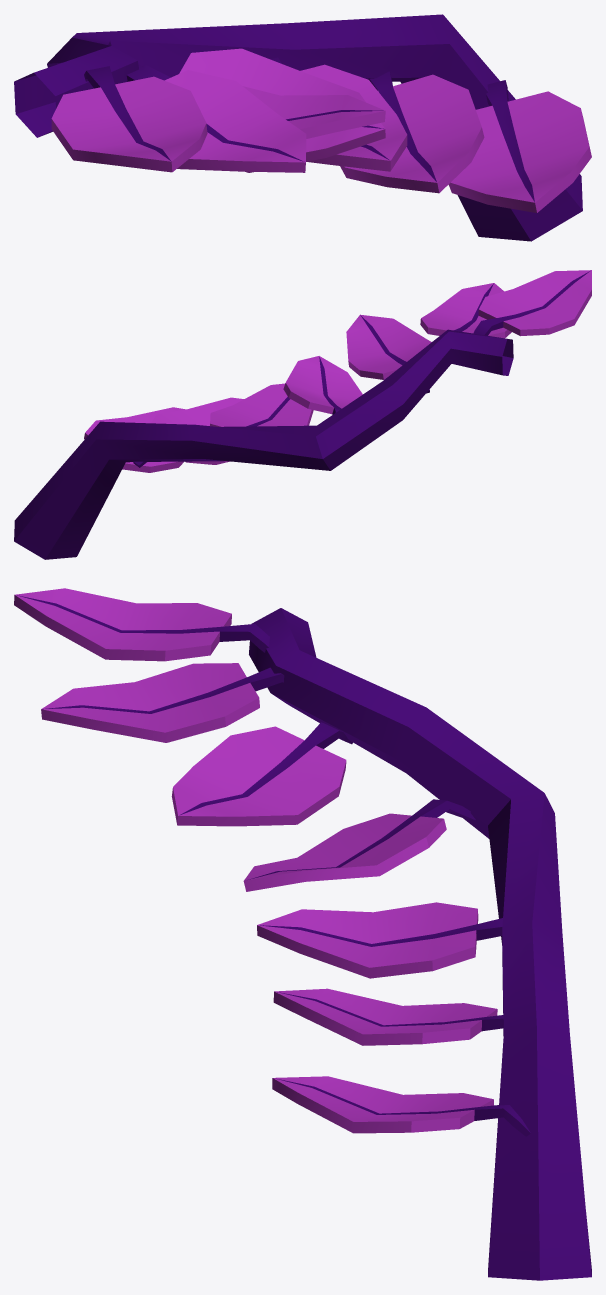
File: Escaleras.fbx
3 views of the same model, one above another, from view 1: azimuth 30°, elevation 25°; view 2: azimuth 150°, elevation 25°; view 3: azimuth 270°, elevation 25° (orthographic). The views are drawn at different scales.
Visible parts, largest first — view 1: Level06_Stairs03; view 2: Level06_Stairs03; view 3: Level06_Stairs03.
Part boxes in pixels (x1,y1,x2,y2): Level06_Stairs03: (14,14,591,241); Level06_Stairs03: (14,270,591,559); Level06_Stairs03: (14,588,591,1280).
Size of the model in its own units: 579 by 322 by 421.
